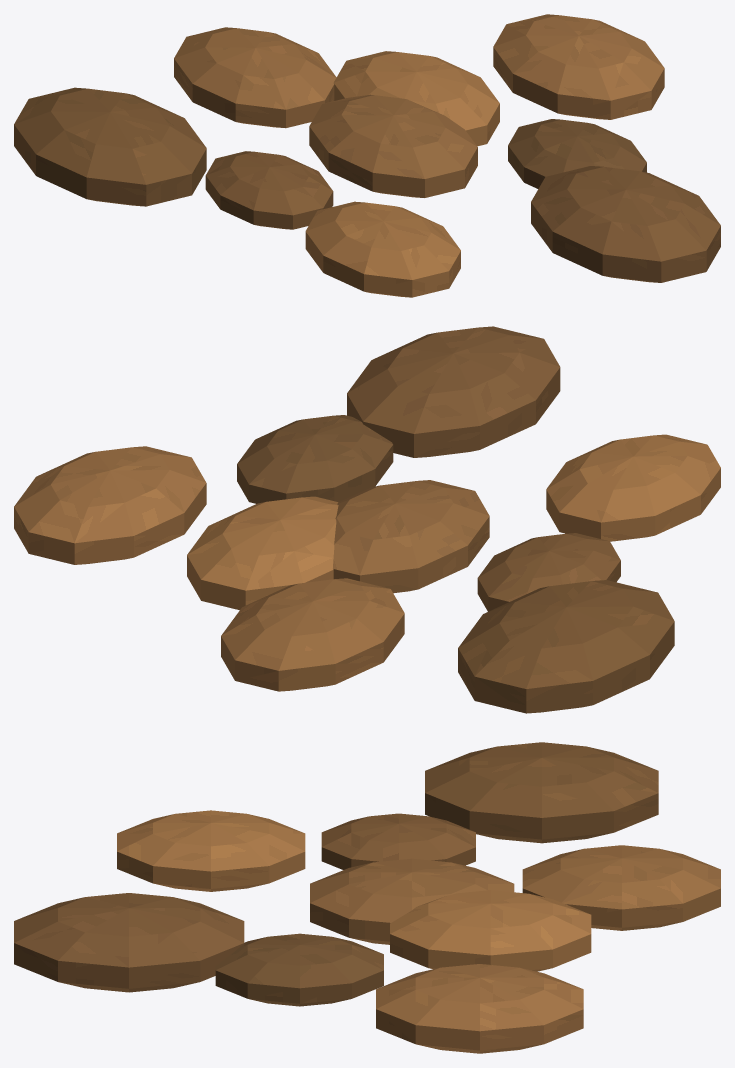
Rendered from seed_popcorn.glb.
3 renders of one model, top to bottom at view 1: azimuth 30°, elevation 25°; view 2: azimuth 150°, elevation 25°; view 3: azimuth 270°, elevation 25°, orthographic. The views are drawn at different scales.
Parts seen in each view (by area): view 1: block_grain 7, block_grain 8, block_grain 6, block_grain 0, block_grain 4, block_grain 5, block_grain 1, block_grain 2, block_grain 3; view 2: block_grain 7, block_grain 8, block_grain 6, block_grain 4, block_grain 5, block_grain 0, block_grain 1, block_grain 3, block_grain 2; view 3: block_grain 7, block_grain 8, block_grain 6, block_grain 1, block_grain 4, block_grain 5, block_grain 3, block_grain 0, block_grain 2.
Boxes of the visible parts, x1=… form: block_grain 7: x1=14, y1=87, x2=206, y2=206; block_grain 8: x1=531, y1=166, x2=720, y2=282; block_grain 6: x1=493, y1=14, x2=664, y2=119; block_grain 0: x1=309, y1=94, x2=477, y2=197; block_grain 4: x1=174, y1=27, x2=336, y2=128; block_grain 5: x1=305, y1=201, x2=460, y2=297; block_grain 1: x1=333, y1=51, x2=499, y2=146; block_grain 2: x1=205, y1=151, x2=333, y2=229; block_grain 3: x1=508, y1=119, x2=646, y2=188; block_grain 7: x1=458, y1=580, x2=674, y2=713; block_grain 8: x1=347, y1=326, x2=560, y2=457; block_grain 6: x1=14, y1=446, x2=206, y2=564; block_grain 4: x1=221, y1=578, x2=404, y2=691; block_grain 5: x1=546, y1=434, x2=720, y2=541; block_grain 0: x1=333, y1=480, x2=489, y2=593; block_grain 1: x1=187, y1=496, x2=338, y2=610; block_grain 3: x1=237, y1=415, x2=393, y2=503; block_grain 2: x1=477, y1=533, x2=620, y2=611; block_grain 7: x1=425, y1=742, x2=658, y2=843; block_grain 8: x1=14, y1=893, x2=244, y2=992; block_grain 6: x1=376, y1=964, x2=583, y2=1053; block_grain 1: x1=390, y1=890, x2=591, y2=971; block_grain 4: x1=522, y1=845, x2=720, y2=930; block_grain 5: x1=117, y1=810, x2=305, y2=891; block_grain 3: x1=215, y1=933, x2=383, y2=1006; block_grain 0: x1=310, y1=858, x2=514, y2=944; block_grain 2: x1=321, y1=813, x2=475, y2=869.
Size of the model in its own units: 0.0716 by 0.00833 by 0.0763.
1 material, 1 textured.
